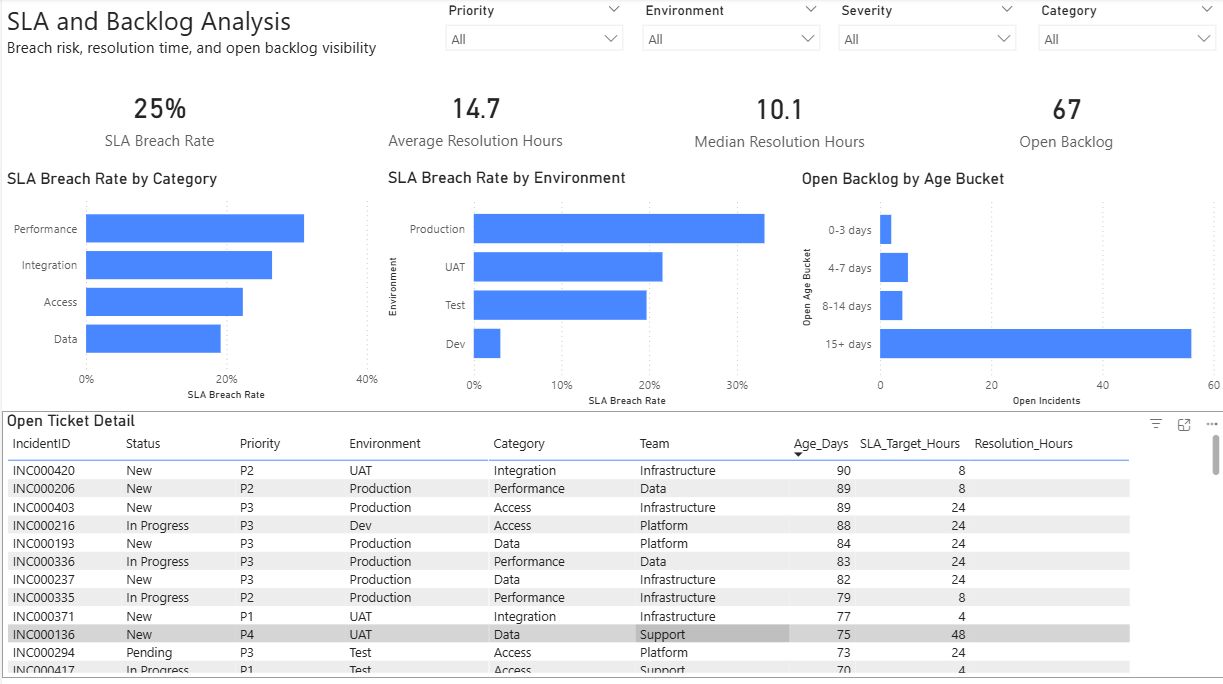

The page's visual inventory and layout, read from the dashboard file:
{"tool":"powerbi","page":{"name":"SLA and Backlog Analysis","canvas":[1280,720],"ordinal":1},"visuals":[{"type":"clusteredBarChart","title":"SLA Breach Rate by Category","fields":{"Category":["Incidents.Category"],"Y":["Incidents.SLA Breach Rate"]},"box":[0,179,398.8,247],"z":0},{"type":"clusteredBarChart","title":"SLA Breach Rate by Environment","fields":{"Category":["Incidents.Environment"],"Y":["Incidents.SLA Breach Rate"]},"box":[398.8,177.9,433.3,254.3],"z":1000},{"type":"card","fields":{"Values":["Incidents.SLA Breach Rate"]},"box":[0,70.1,330,108.8],"z":2000},{"type":"card","fields":{"Values":["Incidents.Median Resolution Hours"]},"box":[659.4,70.1,308.7,109.9],"z":3000},{"type":"barChart","title":"Open Backlog by Age Bucket","fields":{"Y":["Incidents.Open Incidents"],"Category":["Incidents.Open Age Bucket"]},"box":[832.1,179,447.9,253.3],"z":4000},{"type":"slicer","fields":{"Values":["Incidents.Environment"]},"box":[660.2,0,205.6,69.5],"z":5000},{"type":"slicer","fields":{"Values":["Incidents.Priority"]},"box":[454.6,0,205.6,69.5],"z":6000},{"type":"slicer","fields":{"Values":["Incidents.Severity"]},"box":[865.8,0,205.6,69.5],"z":7000},{"type":"slicer","fields":{"Values":["Incidents.Category"]},"box":[1074.4,0,205.6,69.5],"z":8000},{"type":"textbox","box":[0,0,452.5,69.5],"z":9000},{"type":"card","fields":{"Values":["Incidents.Average Resolution Hours"]},"box":[330.7,70.1,329.7,108.8],"z":10000},{"type":"card","fields":{"Values":["Incidents.Backlog Count"]},"box":[948.2,70.1,331.8,109.9],"z":11000},{"type":"tableEx","title":"Open Ticket Detail","fields":{"Values":["Incidents.IncidentID","Incidents.Status","Incidents.Priority","Incidents.Environment","Incidents.Category","Incidents.Team","Incidents.Age_Days","Incidents.SLA_Target_Hours","Incidents.Resolution_Hours"]},"box":[0,432.2,1280,279.4],"z":12000}]}

Visuals, with their boxes in screenshot pixels (x1, y1, x2, y2), scaled from the page's 1280x720 canvas onto the 1223x684 screenshot:
"SLA Breach Rate by Category" clusteredBarChart: Rect(0, 170, 381, 405)
"SLA Breach Rate by Environment" clusteredBarChart: Rect(381, 169, 795, 411)
card - Incidents.SLA Breach Rate: Rect(0, 67, 315, 170)
card - Incidents.Median Resolution Hours: Rect(630, 67, 925, 171)
"Open Backlog by Age Bucket" barChart: Rect(795, 170, 1222, 411)
slicer - Incidents.Environment: Rect(631, 0, 827, 66)
slicer - Incidents.Priority: Rect(434, 0, 631, 66)
slicer - Incidents.Severity: Rect(827, 0, 1024, 66)
slicer - Incidents.Category: Rect(1027, 0, 1222, 66)
textbox: Rect(0, 0, 432, 66)
card - Incidents.Average Resolution Hours: Rect(316, 67, 631, 170)
card - Incidents.Backlog Count: Rect(906, 67, 1222, 171)
"Open Ticket Detail" tableEx: Rect(0, 411, 1222, 676)
